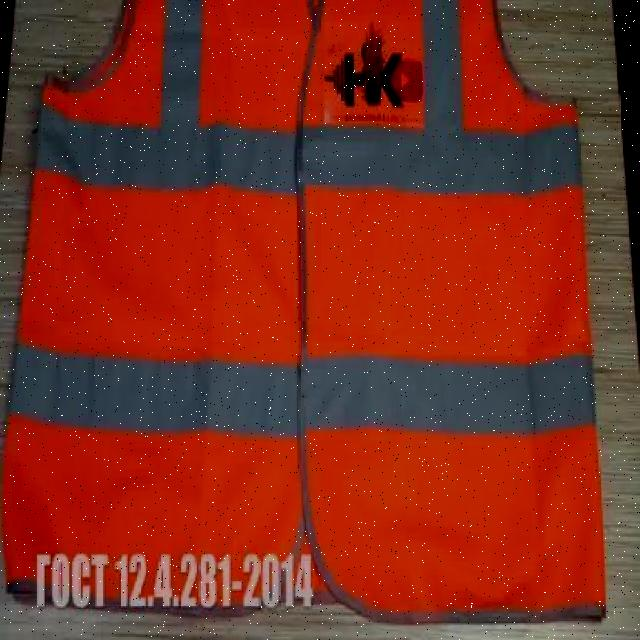Mask: (0, 0, 611, 623)
